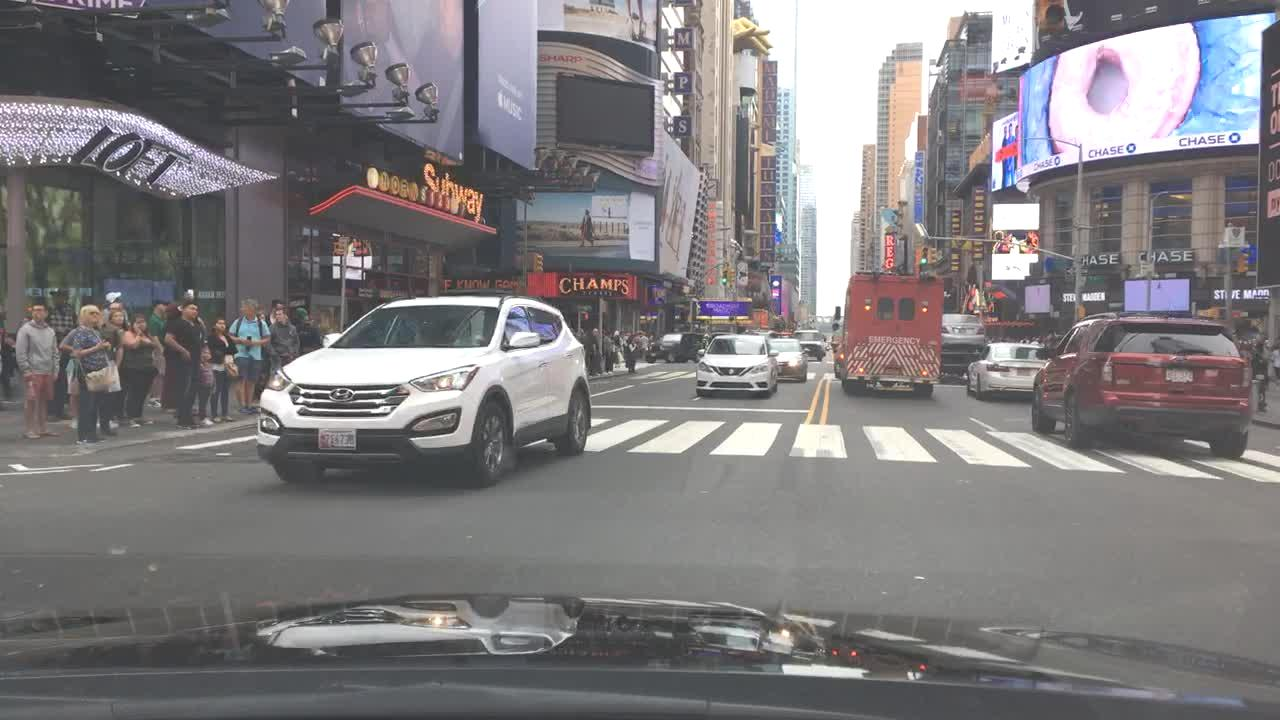Hyundai: (325, 384, 356, 404)
